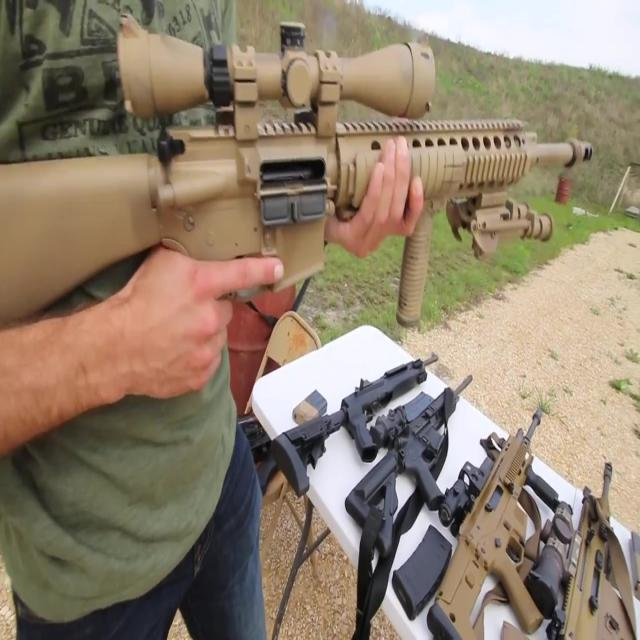Weapon: (0, 29, 601, 361), (208, 293, 640, 640)
